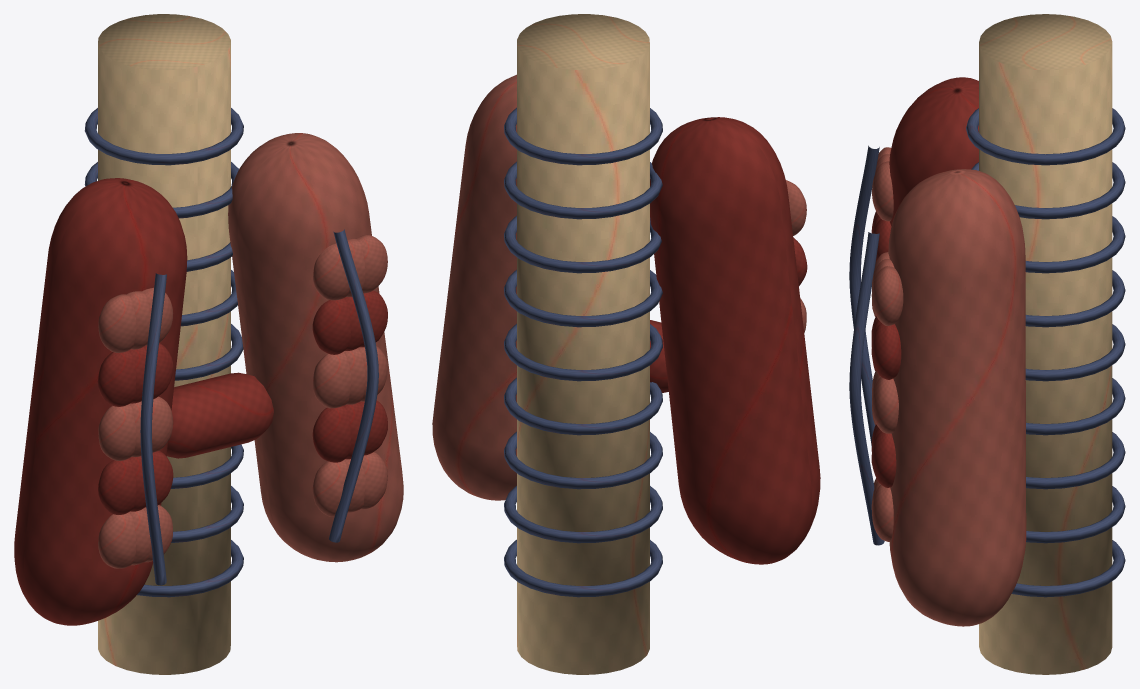
File: thyroid.d63e61e5.glb
The picture shows the model from 3 angles, left to right: view 1: azimuth 30°, elevation 25°; view 2: azimuth 150°, elevation 25°; view 3: azimuth 270°, elevation 25°; orthographic projection.
Visible parts, largest first — view 1: procedural-thyroid-surface-1, procedural-thyroid-surface-11, procedural-thyroid-surface-12, procedural-thyroid-surface-13, procedural-thyroid-surface-45, procedural-thyroid-surface-29, procedural-thyroid-surface-10, procedural-thyroid-surface-28, procedural-thyroid-surface-36, procedural-thyroid-surface-25, procedural-thyroid-surface-19, procedural-thyroid-surface-33 (+24 smaller); view 2: procedural-thyroid-surface-1, procedural-thyroid-surface-11, procedural-thyroid-surface-12, procedural-thyroid-surface-10, procedural-thyroid-surface-4, procedural-thyroid-surface-6, procedural-thyroid-surface-3, procedural-thyroid-surface-2, procedural-thyroid-surface-5, procedural-thyroid-surface-7, procedural-thyroid-surface-9, procedural-thyroid-surface-8 (+2 smaller); view 3: procedural-thyroid-surface-1, procedural-thyroid-surface-12, procedural-thyroid-surface-11, procedural-thyroid-surface-45, procedural-thyroid-surface-29, procedural-thyroid-surface-10, procedural-thyroid-surface-9, procedural-thyroid-surface-2, procedural-thyroid-surface-44, procedural-thyroid-surface-6, procedural-thyroid-surface-7, procedural-thyroid-surface-8 (+9 smaller).
Boxes of the visible parts, x1=… form: procedural-thyroid-surface-1: x1=98, y1=14, x2=230, y2=674; procedural-thyroid-surface-11: x1=14, y1=178, x2=187, y2=625; procedural-thyroid-surface-12: x1=228, y1=133, x2=403, y2=562; procedural-thyroid-surface-13: x1=166, y1=372, x2=273, y2=458; procedural-thyroid-surface-45: x1=329, y1=229, x2=378, y2=542; procedural-thyroid-surface-29: x1=140, y1=273, x2=166, y2=585; procedural-thyroid-surface-10: x1=84, y1=108, x2=243, y2=165; procedural-thyroid-surface-28: x1=98, y1=294, x2=136, y2=352; procedural-thyroid-surface-36: x1=313, y1=351, x2=351, y2=408; procedural-thyroid-surface-25: x1=97, y1=350, x2=136, y2=406; procedural-thyroid-surface-19: x1=98, y1=458, x2=136, y2=514; procedural-thyroid-surface-33: x1=312, y1=406, x2=350, y2=462; procedural-thyroid-surface-1: x1=517, y1=14, x2=649, y2=674; procedural-thyroid-surface-11: x1=650, y1=117, x2=820, y2=564; procedural-thyroid-surface-12: x1=432, y1=74, x2=516, y2=500; procedural-thyroid-surface-10: x1=504, y1=107, x2=662, y2=165; procedural-thyroid-surface-4: x1=504, y1=431, x2=662, y2=489; procedural-thyroid-surface-6: x1=504, y1=323, x2=662, y2=381; procedural-thyroid-surface-3: x1=504, y1=485, x2=662, y2=543; procedural-thyroid-surface-2: x1=504, y1=539, x2=662, y2=597; procedural-thyroid-surface-5: x1=504, y1=377, x2=662, y2=435; procedural-thyroid-surface-7: x1=504, y1=269, x2=662, y2=327; procedural-thyroid-surface-9: x1=504, y1=161, x2=662, y2=219; procedural-thyroid-surface-8: x1=504, y1=215, x2=661, y2=273; procedural-thyroid-surface-1: x1=979, y1=14, x2=1112, y2=674; procedural-thyroid-surface-12: x1=888, y1=169, x2=1026, y2=626; procedural-thyroid-surface-11: x1=889, y1=77, x2=978, y2=225; procedural-thyroid-surface-45: x1=849, y1=232, x2=884, y2=545; procedural-thyroid-surface-29: x1=849, y1=145, x2=879, y2=447; procedural-thyroid-surface-10: x1=966, y1=108, x2=1125, y2=165; procedural-thyroid-surface-9: x1=971, y1=162, x2=1125, y2=219; procedural-thyroid-surface-2: x1=1011, y1=540, x2=1125, y2=597; procedural-thyroid-surface-44: x1=871, y1=266, x2=903, y2=325; procedural-thyroid-surface-6: x1=1025, y1=324, x2=1125, y2=381; procedural-thyroid-surface-7: x1=1025, y1=270, x2=1125, y2=327; procedural-thyroid-surface-8: x1=1025, y1=216, x2=1125, y2=273.
Bounding box in the file's own units: 1.79 × 2.8 × 1.16.
4 materials, 4 textured.
